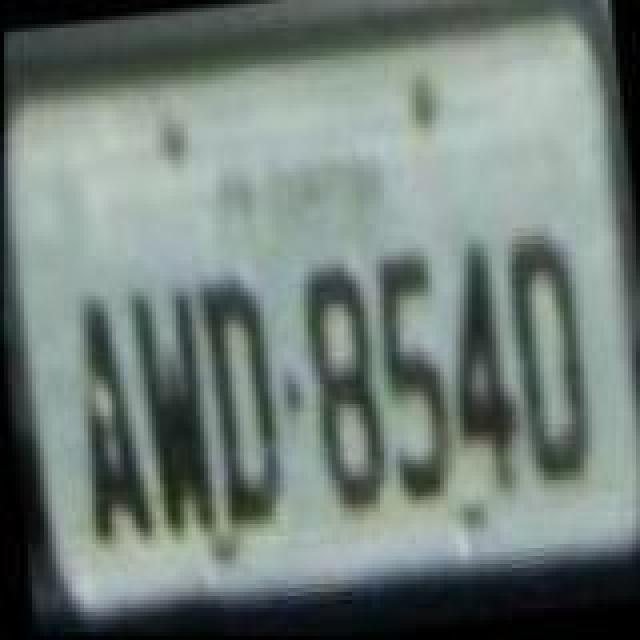4: (432, 228, 532, 500)
5: (368, 254, 464, 510)
8: (296, 260, 392, 516)
A: (64, 290, 160, 546)
D: (190, 266, 290, 526)
O: (500, 224, 600, 492)
W: (126, 280, 226, 544)
